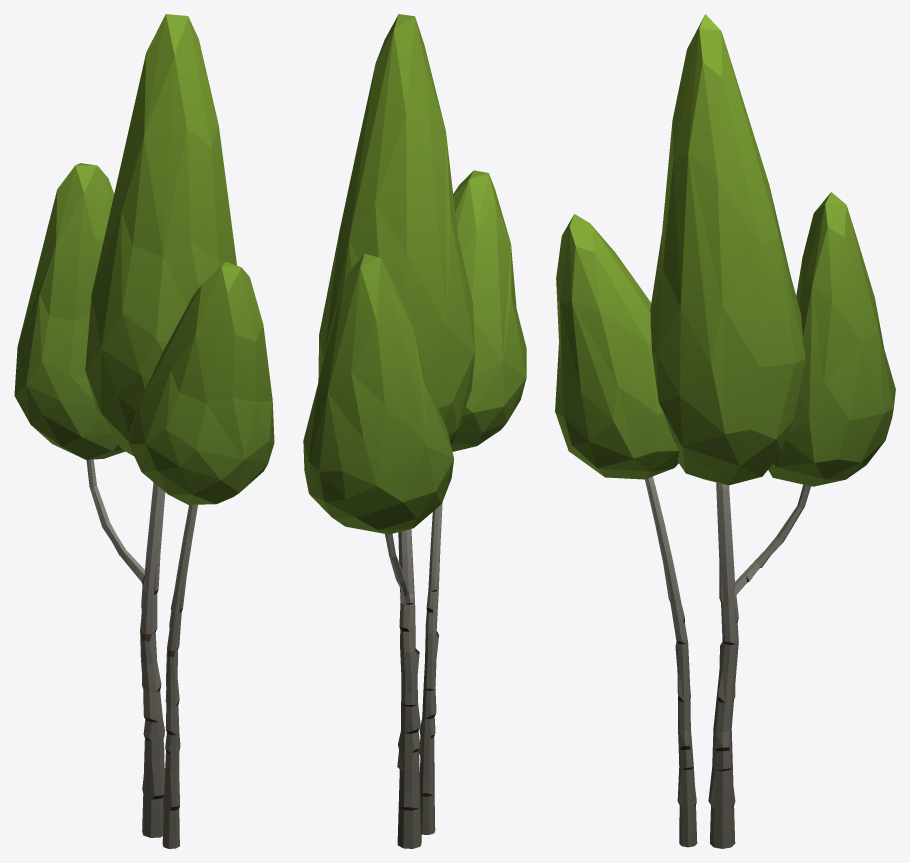
File: ZLP_Plant_J_4.FBX
3 views of the same model, side by side, from view 1: azimuth 30°, elevation 25°; view 2: azimuth 150°, elevation 25°; view 3: azimuth 270°, elevation 25° (orthographic).
Parts seen in each view (by area): view 1: ZLP_Plant_J_4; view 2: ZLP_Plant_J_4; view 3: ZLP_Plant_J_4.
Boxes of the visible parts, x1,y1,x2,y2 form: ZLP_Plant_J_4: (14,14,274,848); ZLP_Plant_J_4: (303,14,526,848); ZLP_Plant_J_4: (555,14,895,848).
Bounding box in the file's own units: 217 × 1012 × 376.
